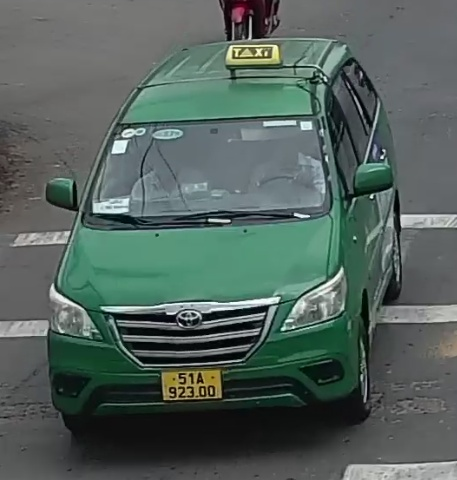vehicle plate: (157, 365, 226, 401)
